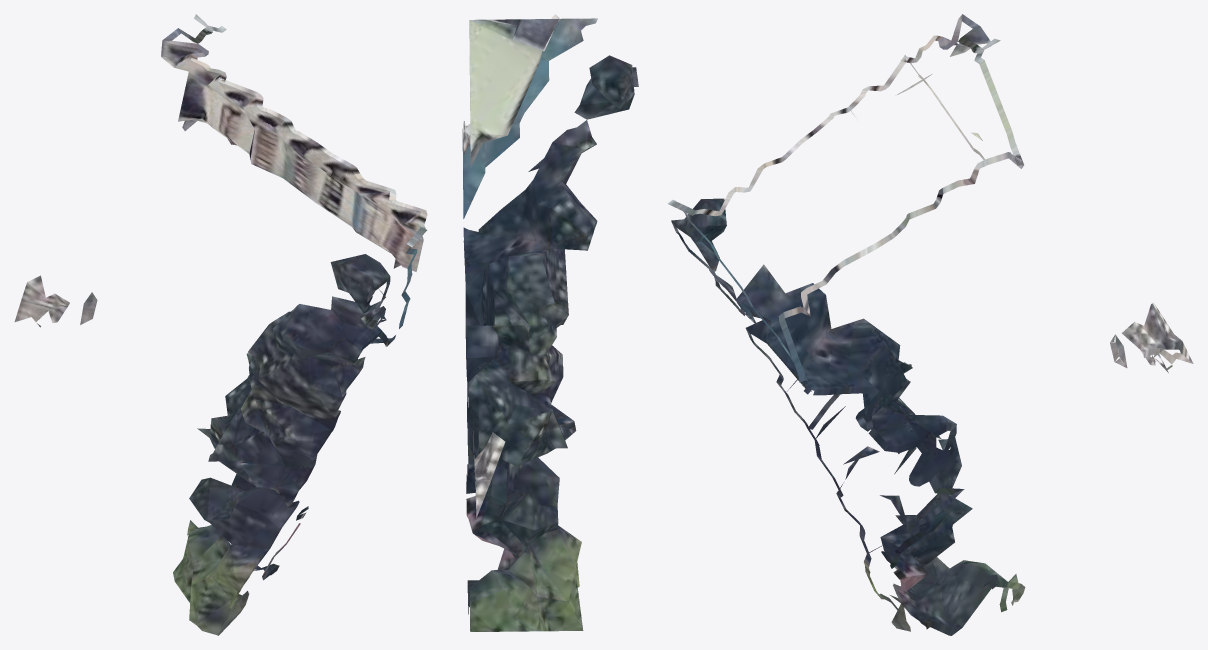
3 renders of one model, left to right at view 1: azimuth 30°, elevation 25°; view 2: azimuth 150°, elevation 25°; view 3: azimuth 270°, elevation 25°, orthographic. The views are drawn at different scales.
Size of the model in its own units: 17.6 by 44.56 by 35.32.
Materials: 1 (1 with a texture image).
